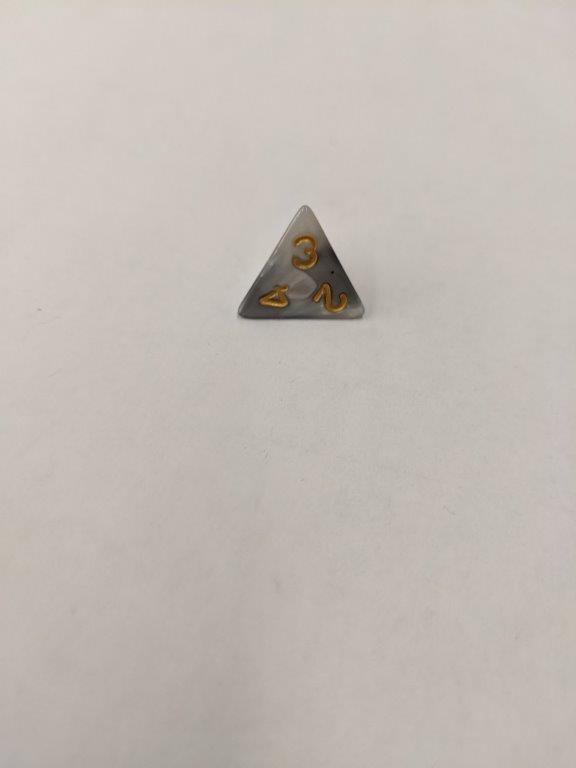d4-3: (231, 201, 373, 330)
